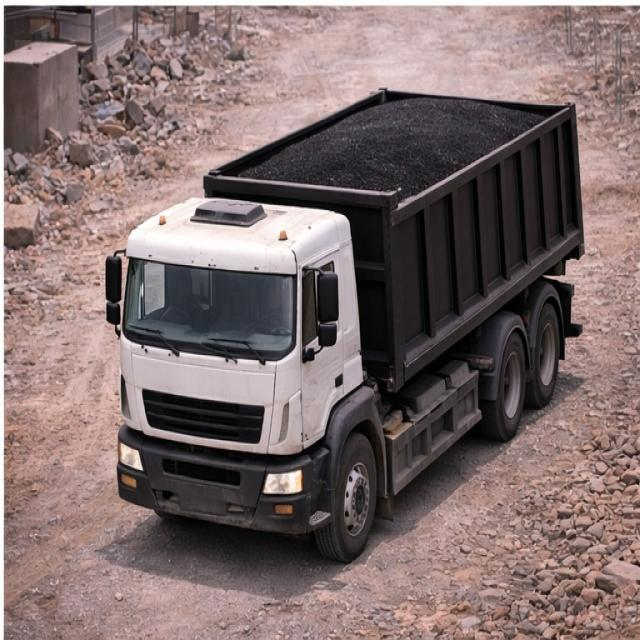trailer: (203, 80, 575, 202)
truck: (78, 76, 596, 558)
